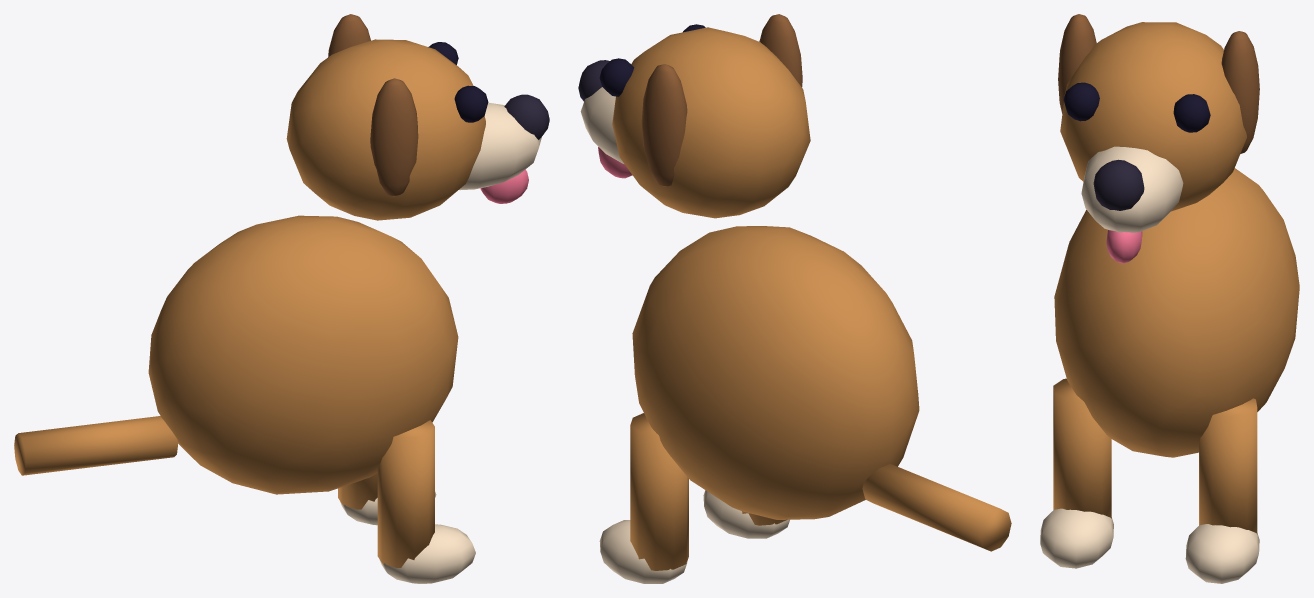
File: pes_sedi.glb
3 views of the same model, side by side, from view 1: azimuth 30°, elevation 25°; view 2: azimuth 150°, elevation 25°; view 3: azimuth 270°, elevation 25° (orthographic). The views are drawn at different scales.
Parts seen in each view (by area): view 1: Sphere, Sphere.002, Cylinder, Cylinder.002, Sphere.007, Sphere.003, Sphere.010, Sphere.004, Sphere.009, Sphere.006, Cylinder.001, Sphere.005; view 2: Sphere, Sphere.002, Cylinder.001, Cylinder.002, Sphere.009, Sphere.011, Sphere.010, Sphere.003, Sphere.007, Sphere.008, Sphere.004; view 3: Sphere, Sphere.002, Cylinder.001, Cylinder, Sphere.003, Sphere.010, Sphere.011, Sphere.009, Sphere.004, Sphere.007, Sphere.008, Sphere.006 (+1 smaller).
Part boxes in pixels (x1,y1,x2,y2): Sphere: (148, 215, 458, 494); Sphere.002: (286, 39, 485, 220); Cylinder: (377, 420, 434, 567); Cylinder.002: (14, 416, 177, 475); Sphere.007: (370, 78, 418, 196); Sphere.003: (459, 102, 541, 190); Sphere.010: (379, 524, 475, 583); Sphere.004: (504, 94, 549, 139); Sphere.009: (328, 14, 370, 57); Sphere.006: (454, 85, 488, 122); Cylinder.001: (338, 473, 377, 509); Sphere.005: (480, 169, 528, 203); Sphere: (632, 226, 919, 519); Sphere.002: (612, 27, 810, 218); Cylinder.001: (630, 413, 688, 570); Cylinder.002: (862, 463, 1011, 551); Sphere.009: (641, 64, 687, 186); Sphere.011: (599, 520, 687, 583); Sphere.010: (703, 490, 789, 538); Sphere.003: (580, 87, 623, 163); Sphere.007: (759, 14, 802, 86); Sphere.008: (599, 58, 634, 96); Sphere.004: (578, 60, 609, 101); Sphere: (1054, 168, 1299, 457); Sphere.002: (1060, 22, 1246, 211); Cylinder.001: (1199, 398, 1257, 534); Cylinder: (1053, 378, 1111, 518); Sphere.003: (1081, 146, 1183, 232); Sphere.010: (1040, 508, 1113, 568); Sphere.011: (1185, 524, 1259, 583); Sphere.009: (1221, 31, 1259, 153); Sphere.004: (1093, 159, 1144, 210); Sphere.007: (1058, 14, 1096, 113); Sphere.008: (1173, 94, 1210, 132); Sphere.006: (1063, 82, 1099, 121).
Size of the model in its own units: 0.7505 by 0.781 by 0.346.
